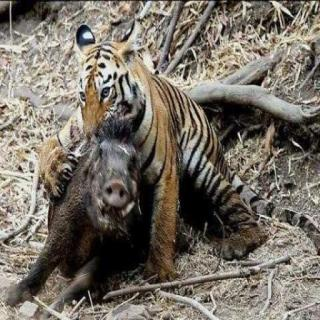Tiger: (66, 18, 262, 232)
